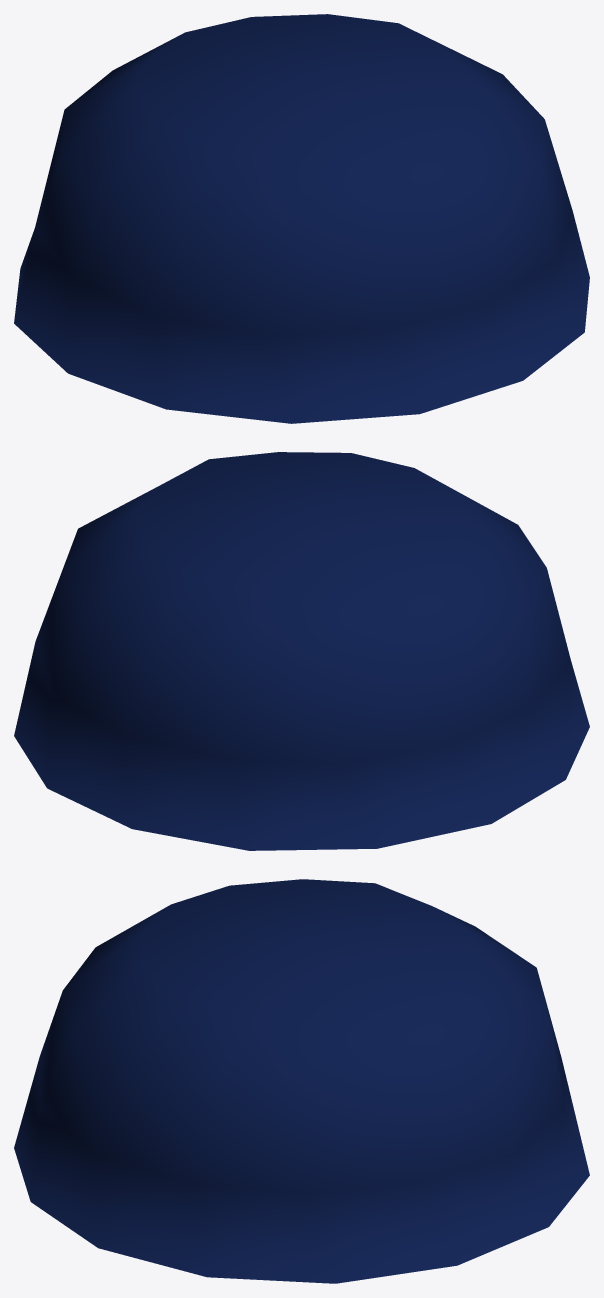
Rendered from Bubble_Outline.fbx.
The picture shows the model from 3 angles, top to bottom: view 1: azimuth 30°, elevation 25°; view 2: azimuth 150°, elevation 25°; view 3: azimuth 270°, elevation 25°; orthographic projection.
Parts seen in each view (by area): view 1: Bubble_Outline; view 2: Bubble_Outline; view 3: Bubble_Outline.
Boxes of the visible parts, <box> form: Bubble_Outline: <box>14,14,589,423</box>; Bubble_Outline: <box>14,452,589,850</box>; Bubble_Outline: <box>14,879,589,1283</box>.
Size of the model in its own units: 1.18 by 0.51 by 1.18.
